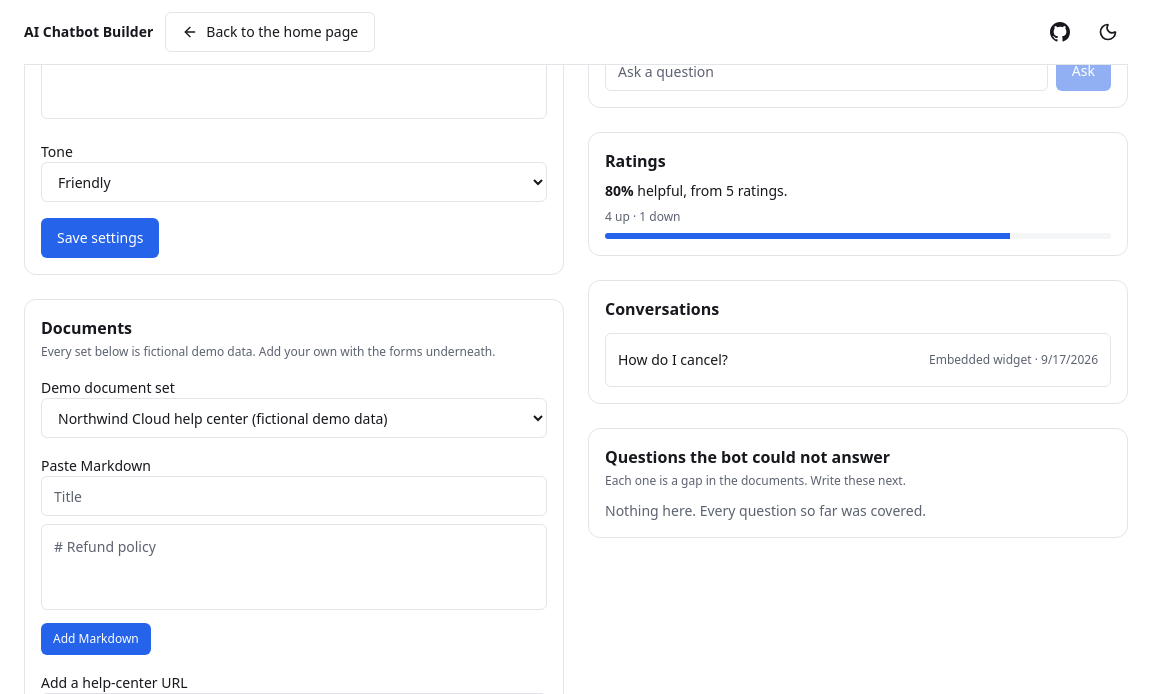
Test case: 5.5 ratings › records a rating and moves the summary
The image size is (1152, 694).
(page scrolled)
Expected: the text with test id "ratings-up" reads "4 up", [605,208,630,225]
Step 1. Click the button "How do I cancel? Embedded widget · 9/17/2026" → (673, 360), box [618,346,1098,374]
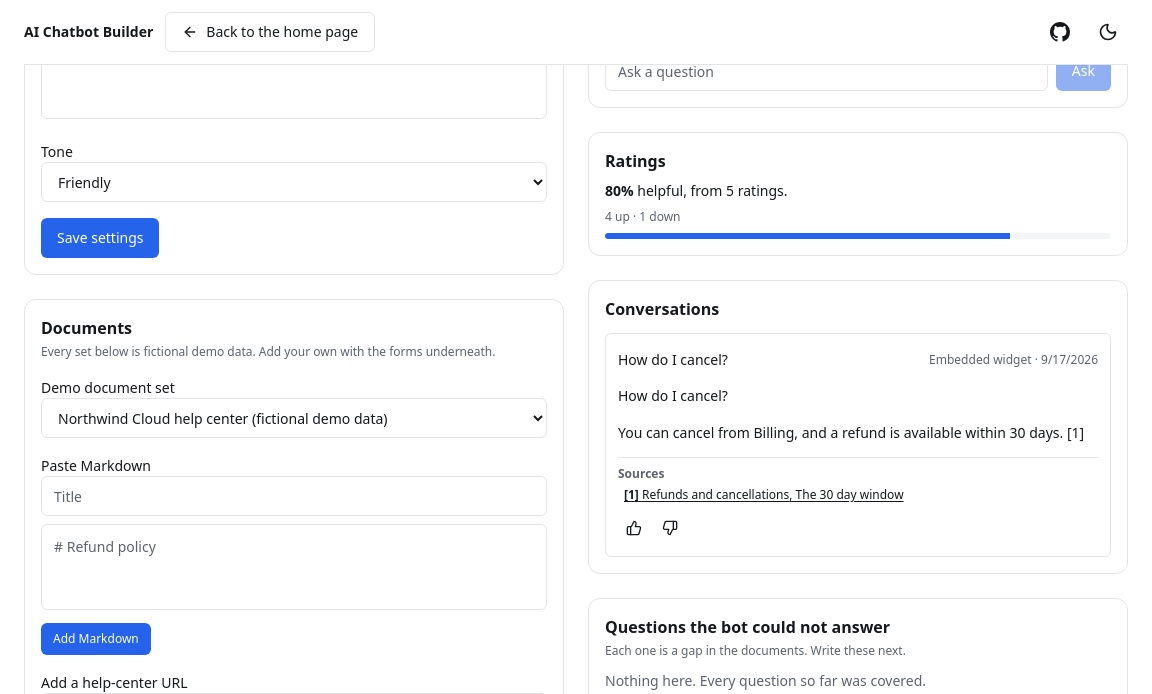
Step 2. Click the button named "Good answer" → (634, 528), box [618,512,650,544]
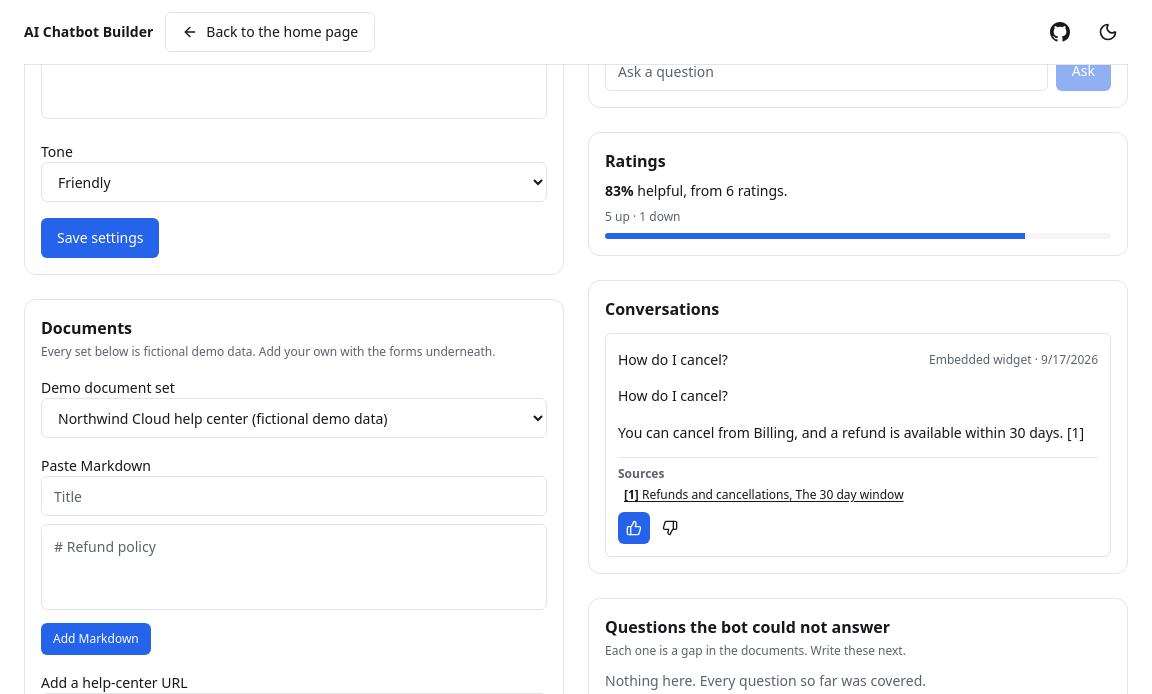
Expected: the text with test id "ratings-up" reads "5 up", [605,208,630,225]
